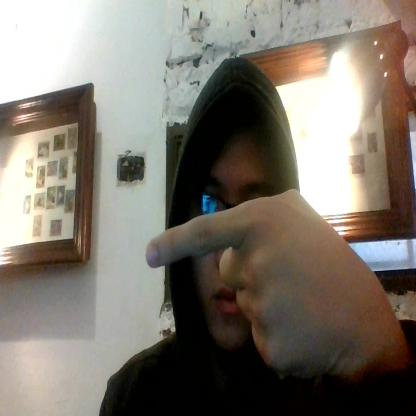right: (143, 183, 377, 372)
